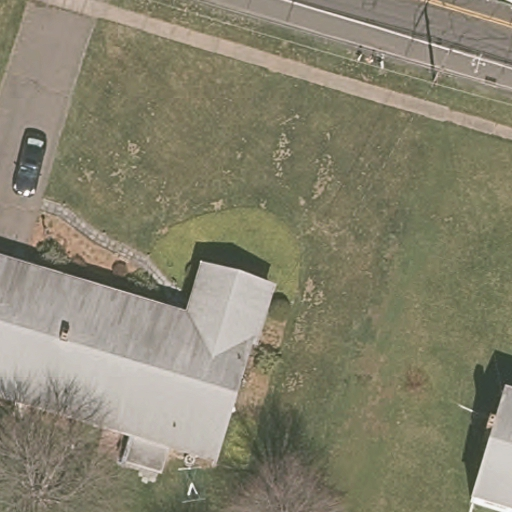DT: (428, 47, 458, 91)
